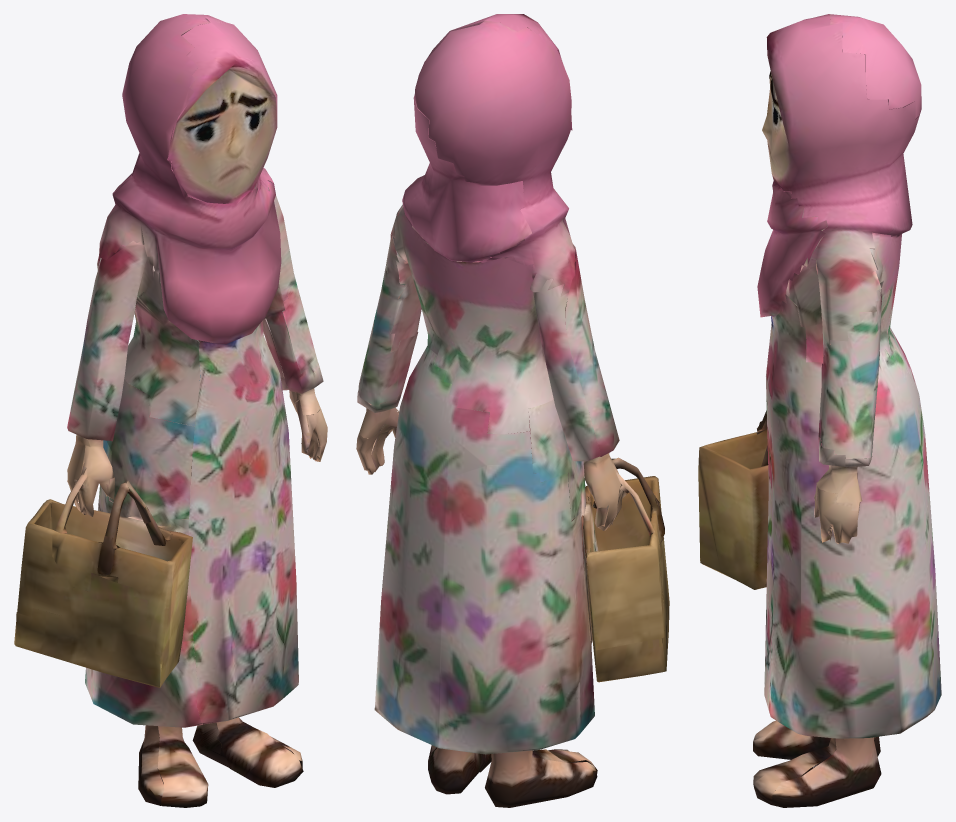
Rendered from npc_bu_euis.glb.
3 renders of one model, left to right at view 1: azimuth 30°, elevation 25°; view 2: azimuth 150°, elevation 25°; view 3: azimuth 270°, elevation 25°, orthographic. The views are drawn at different scales.
Visible parts, largest first — view 1: torso, leg_r, leg_l; view 2: torso, leg_r, leg_l; view 3: torso, leg_l, leg_r.
Boxes of the visible parts, x1,y1,x2,y2 form: torso: (67, 14, 323, 448); leg_r: (14, 412, 234, 807); leg_l: (155, 380, 327, 787); torso: (357, 14, 619, 465); leg_r: (438, 412, 669, 807); leg_l: (356, 402, 523, 794); torso: (757, 14, 922, 474); leg_l: (753, 418, 941, 807); leg_r: (698, 410, 941, 759).
Bounding box in the file's own units: 0.6611 × 1.56 × 0.4571.
Materials: 1 (1 with a texture image).
